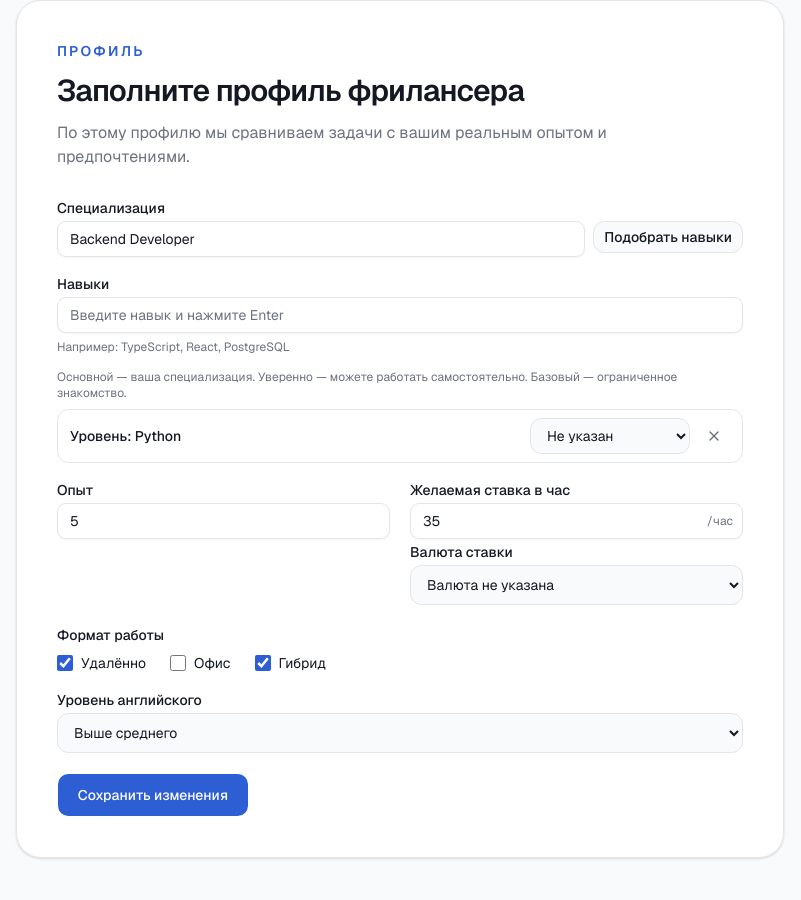
ProfileEditor › adds separate trimmed tags on Enter without submitting (ru)
Later steps or results of the test are not shown.
Type "  n8n  " into the field labelled "Навыки".
click(400, 315); type("  n8n  ")  # box x1=57 y1=297 x2=743 y2=333
Then press Enter
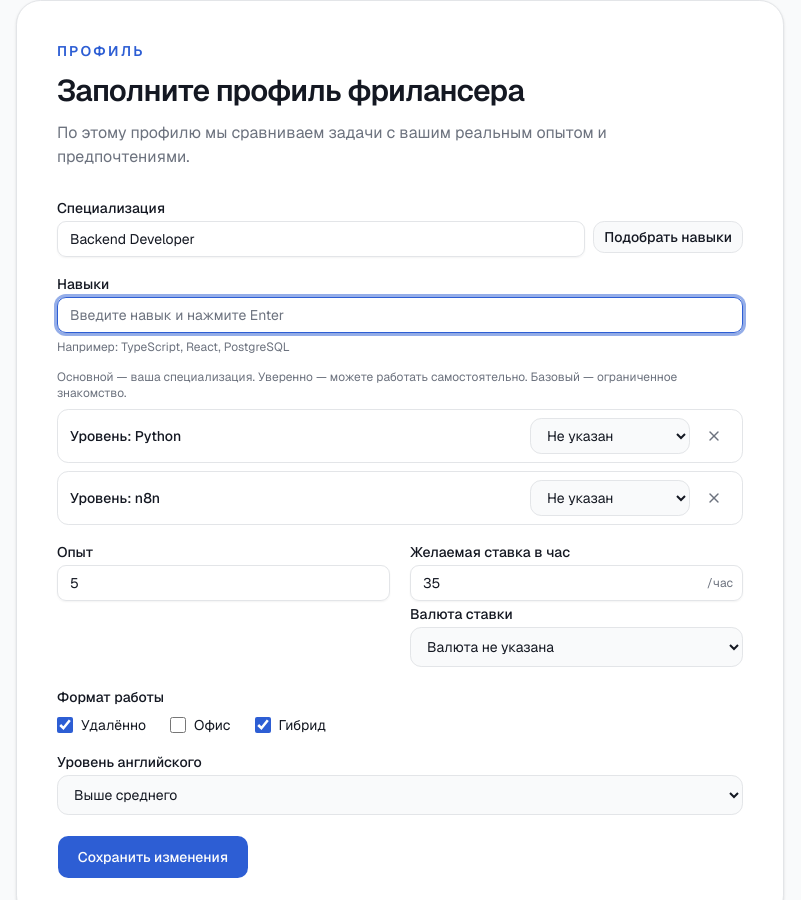
Check: the dropdown labelled "Уровень: n8n" is shown, box x1=530 y1=480 x2=690 y2=516
